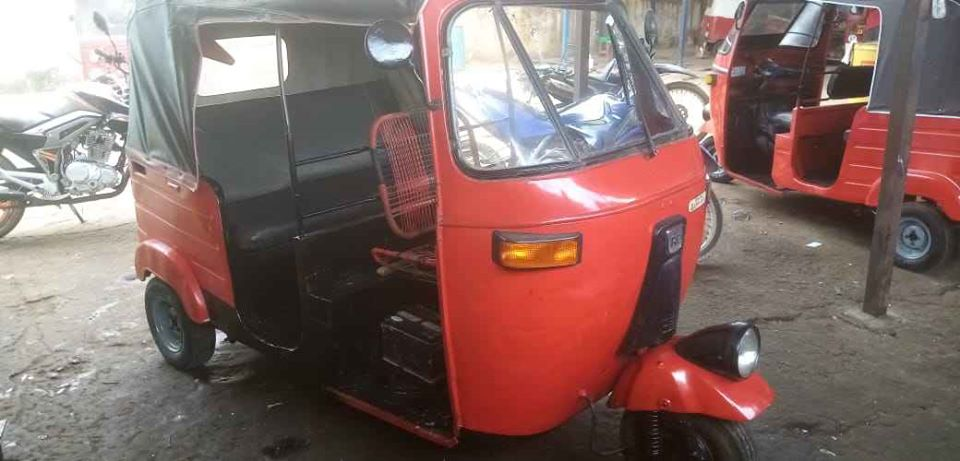mototaxi: (121, 1, 768, 461)
